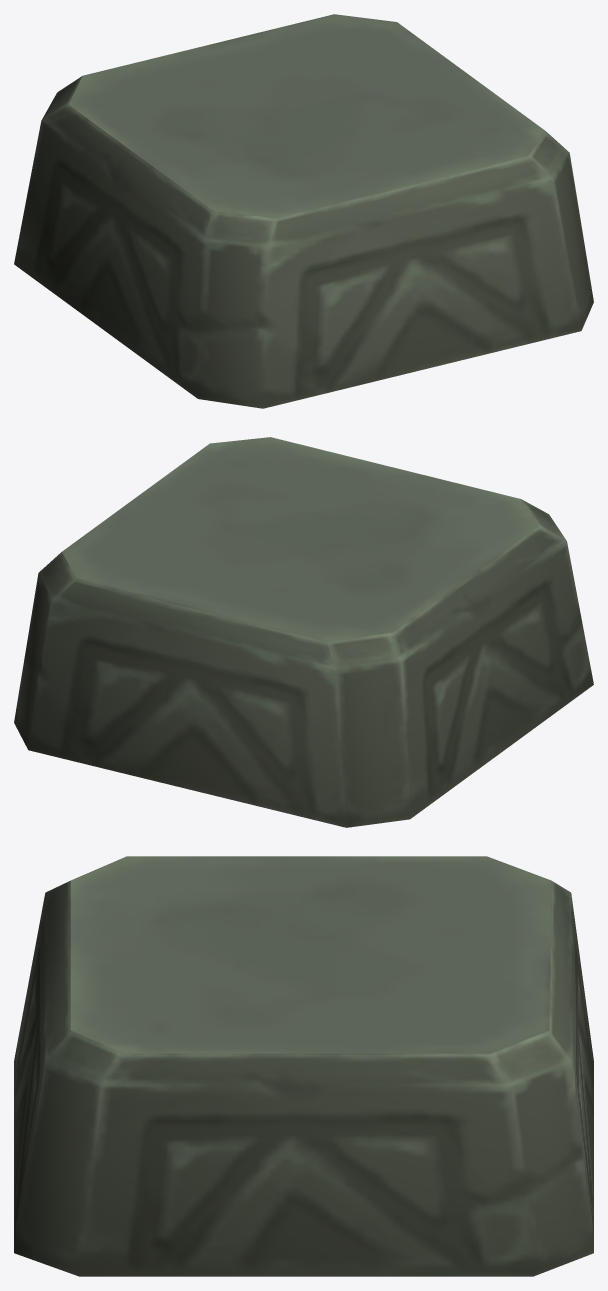
File: yw_shanlin_postbase_003.FBX
3 views of the same model, one above another, from view 1: azimuth 30°, elevation 25°; view 2: azimuth 150°, elevation 25°; view 3: azimuth 270°, elevation 25° (orthographic). The views are drawn at different scales.
Parts seen in each view (by area): view 1: yw_shanlin_postbase_003; view 2: yw_shanlin_postbase_003; view 3: yw_shanlin_postbase_003.
Part boxes in pixels (bbox=[...]): yw_shanlin_postbase_003: bbox=[14, 14, 593, 408]; yw_shanlin_postbase_003: bbox=[14, 437, 593, 827]; yw_shanlin_postbase_003: bbox=[14, 856, 593, 1276].
Size of the model in its own units: 44.95 by 46.16 by 17.96.
